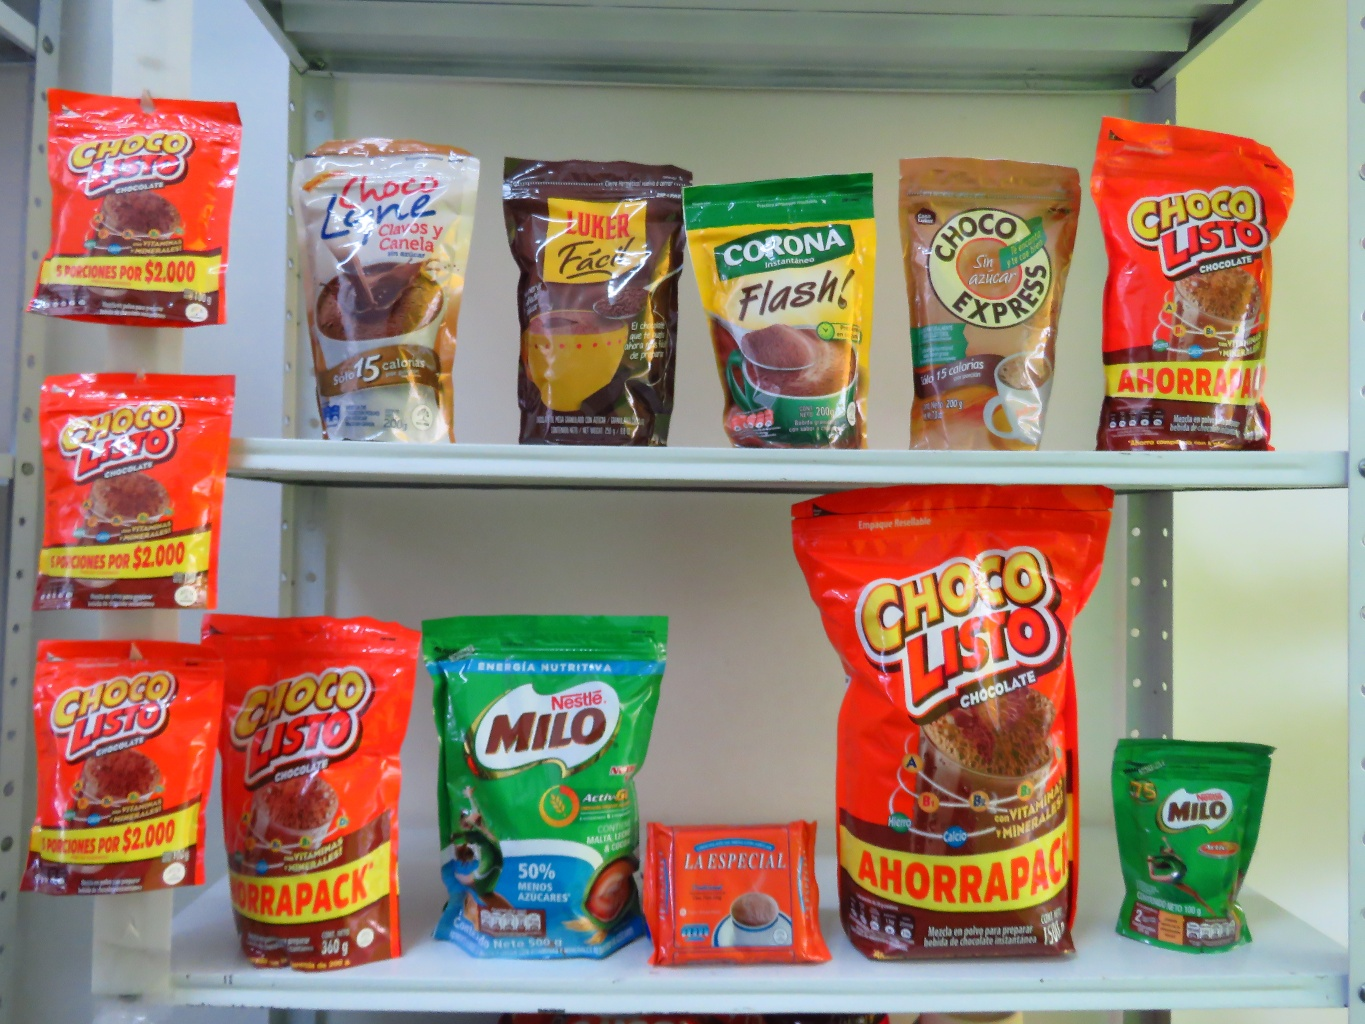COL0170103DYP1,500: (797, 484, 1131, 951)
COL0170103DYP10000: (22, 66, 236, 329)
COL0170103DYP36000: (199, 610, 414, 977)
COL0170103DYP40000: (1090, 114, 1288, 449)
COL0170203DYP10000: (1092, 723, 1277, 949)
COL0170205DYP50000: (421, 603, 671, 968)
